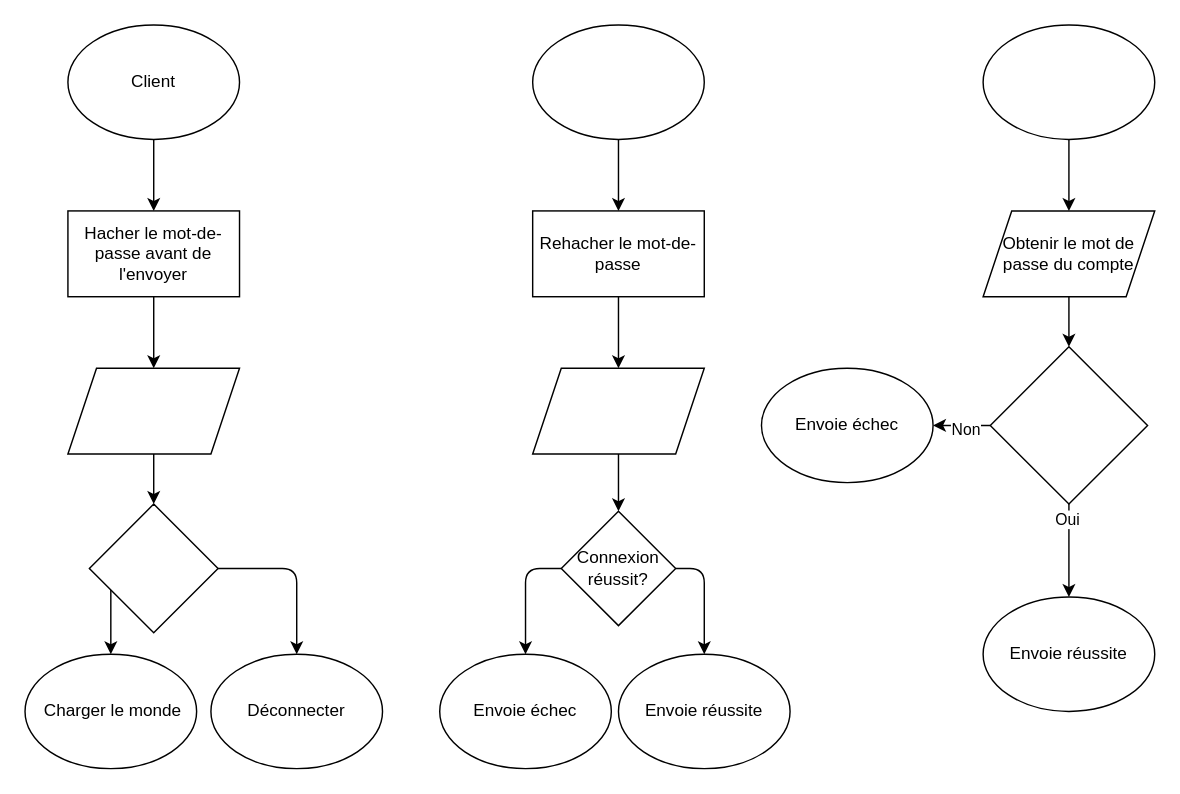
Image size: 1180x794. Some labels were removed from this diagram. Each missing label, with the centre of its shape:
Base de donnée: [1068,81]
Connexion réussite?: [153,568]
Envoyer au serveur: [153,410]
Envoyer une requête à la base de donnée: [617,410]
Mot-de-passe correspondant?: [1068,424]
Serveur: [617,81]
